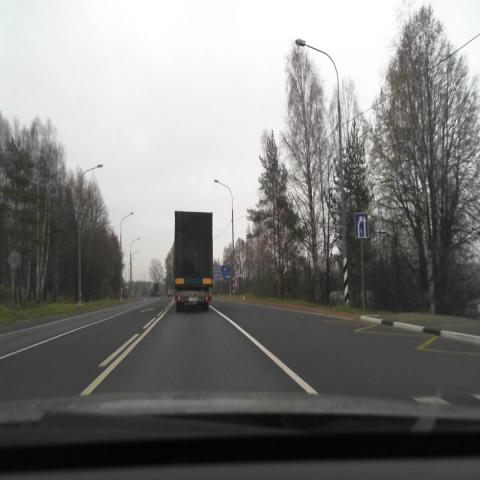5_15_5: (355, 213, 368, 237)
